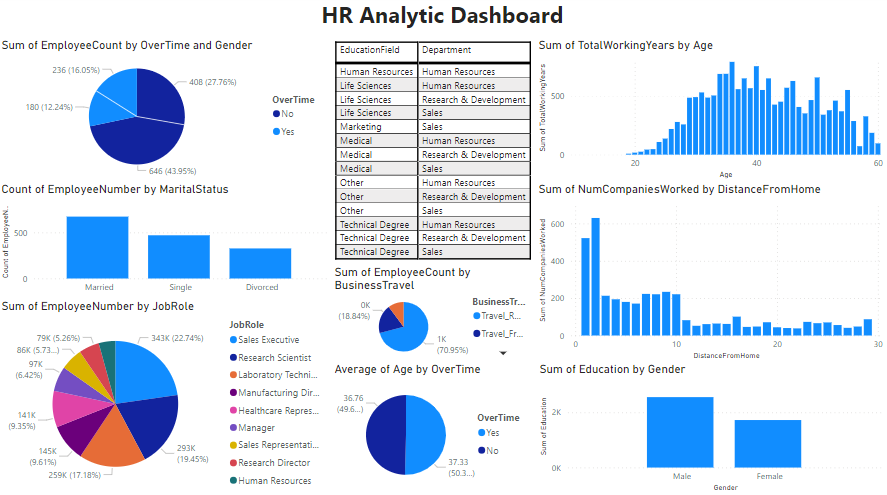

The dashboard page shown, as its layout file describes it:
{"tool":"powerbi","page":{"name":"Page 1","canvas":[1280,720],"ordinal":0},"visuals":[{"type":"textbox","box":[0,0,1280,62],"z":0},{"type":"pieChart","fields":{"Category":["HR-Employee-Attrition.OverTime"],"Y":["Sum(HR-Employee-Attrition.EmployeeCount)"],"Series":["HR-Employee-Attrition.Gender"]},"box":[0,62,478.9,206.7],"z":1000},{"type":"clusteredColumnChart","fields":{"Category":["HR-Employee-Attrition.MaritalStatus"],"Y":["CountNonNull(HR-Employee-Attrition.EmployeeNumber)"]},"box":[0,268.7,478.9,168.8],"z":2000},{"type":"pieChart","fields":{"Category":["HR-Employee-Attrition.JobRole"],"Y":["Sum(HR-Employee-Attrition.EmployeeNumber)"]},"box":[0,437.6,478.9,282.5],"z":3000},{"type":"tableEx","fields":{"Values":["HR-Employee-Attrition.EducationField","HR-Employee-Attrition.Department"]},"box":[478.9,62,294.6,327.3],"z":4000},{"type":"pieChart","fields":{"Category":["HR-Employee-Attrition.OverTime"],"Y":["Avg(HR-Employee-Attrition.Age)"]},"box":[478.9,528.9,294.6,191.2],"z":5000},{"type":"pieChart","fields":{"Category":["HR-Employee-Attrition.BusinessTravel"],"Y":["Sum(HR-Employee-Attrition.EmployeeCount)"]},"box":[478.9,389.3,294.6,139.5],"z":5001},{"type":"clusteredColumnChart","fields":{"Y":["Sum(HR-Employee-Attrition.TotalWorkingYears)"],"Category":["HR-Employee-Attrition.Age"]},"box":[773.5,62,506.5,206.7],"z":5002},{"type":"clusteredColumnChart","fields":{"Y":["Sum(HR-Employee-Attrition.Education)"],"Category":["HR-Employee-Attrition.Gender"]},"box":[774,529,506,191],"z":5003},{"type":"clusteredColumnChart","fields":{"Y":["Sum(HR-Employee-Attrition.NumCompaniesWorked)"],"Category":["HR-Employee-Attrition.DistanceFromHome"]},"box":[773.5,268.7,506.5,260.1],"z":5004}]}

Visuals, with their boxes in screenshot pixels (x1, y1, x2, y2), scaled from the page's 1280x720 canvas onto the 887x495 screenshot:
textbox: <bbox>0, 0, 886, 43</bbox>
pieChart - HR-Employee-Attrition.OverTime x Sum(HR-Employee-Attrition.EmployeeCount): <bbox>0, 43, 332, 185</bbox>
clusteredColumnChart - HR-Employee-Attrition.MaritalStatus x CountNonNull(HR-Employee-Attrition.EmployeeNumber): <bbox>0, 185, 332, 301</bbox>
pieChart - HR-Employee-Attrition.JobRole x Sum(HR-Employee-Attrition.EmployeeNumber): <bbox>0, 301, 332, 494</bbox>
tableEx - HR-Employee-Attrition.EducationField x HR-Employee-Attrition.Department: <bbox>332, 43, 536, 268</bbox>
pieChart - HR-Employee-Attrition.OverTime x Avg(HR-Employee-Attrition.Age): <bbox>332, 364, 536, 494</bbox>
pieChart - HR-Employee-Attrition.BusinessTravel x Sum(HR-Employee-Attrition.EmployeeCount): <bbox>332, 268, 536, 364</bbox>
clusteredColumnChart - Sum(HR-Employee-Attrition.TotalWorkingYears) x HR-Employee-Attrition.Age: <bbox>536, 43, 886, 185</bbox>
clusteredColumnChart - Sum(HR-Employee-Attrition.Education) x HR-Employee-Attrition.Gender: <bbox>536, 364, 886, 494</bbox>
clusteredColumnChart - Sum(HR-Employee-Attrition.NumCompaniesWorked) x HR-Employee-Attrition.DistanceFromHome: <bbox>536, 185, 886, 364</bbox>
